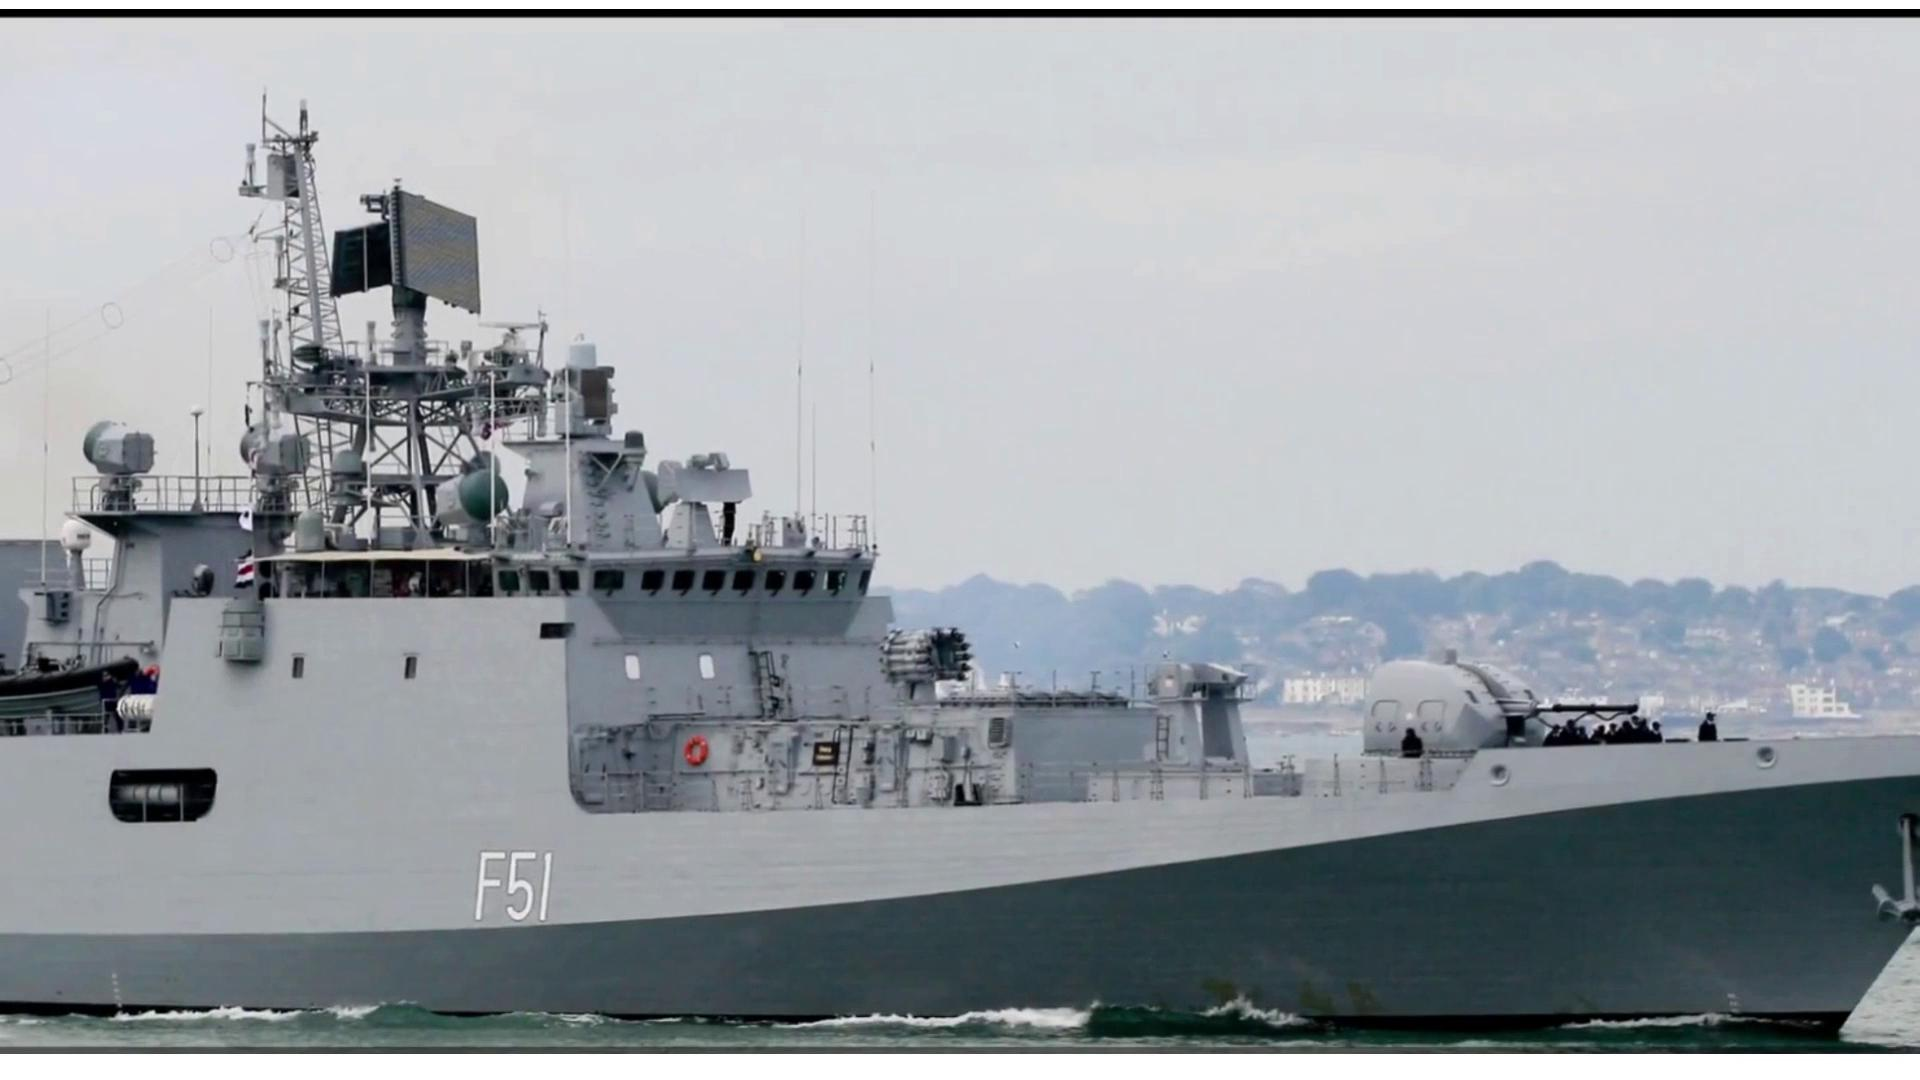OCR: (468, 843, 570, 932)
